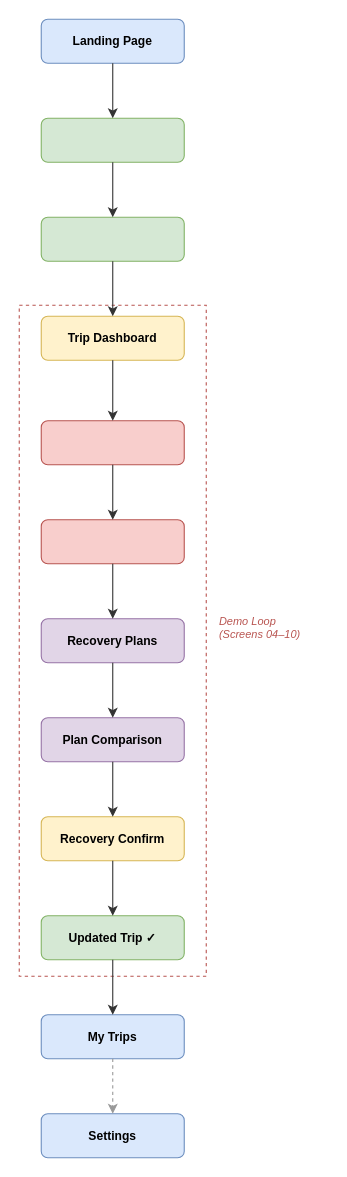
Image size: 347x1177. Some labels were removed from this diagram. The box of each missing label's shape, as (x1, y1, x2, y2) in pixels:
Add Bookings: (40, 216, 184, 261)
Create Trip: (40, 117, 184, 162)
Disruption Center: (40, 420, 184, 465)
Impact Analysis: (40, 519, 184, 564)
